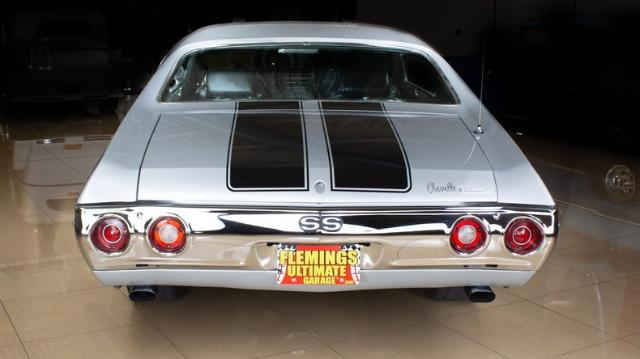chevelle-1972: (74, 23, 559, 303)
